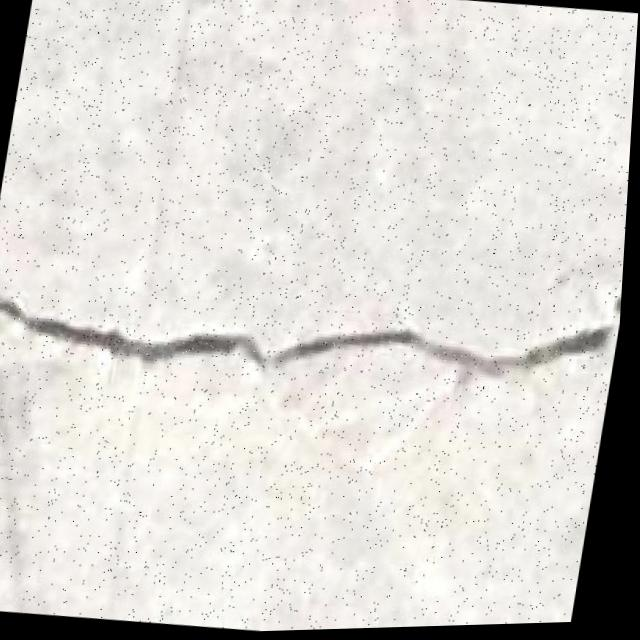Crack: (0, 236, 628, 431)
